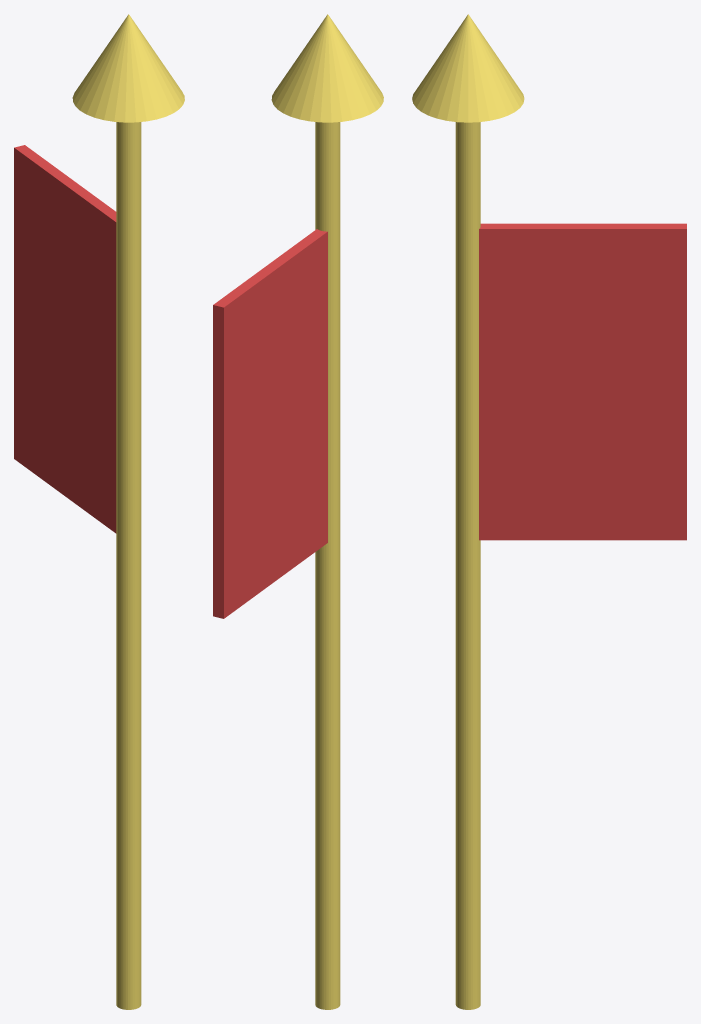
File: roman_banner.glb
3 views of the same model, side by side, from view 1: azimuth 30°, elevation 25°; view 2: azimuth 150°, elevation 25°; view 3: azimuth 270°, elevation 25° (orthographic).
Parts seen in each view (by area): view 1: RomanBanner; view 2: RomanBanner; view 3: RomanBanner.
Boxes of the visible parts, x1=… form: RomanBanner: x1=14, y1=14, x2=184, y2=1009; RomanBanner: x1=213, y1=14, x2=383, y2=1009; RomanBanner: x1=412, y1=14, x2=686, y2=1009.
Bounding box in the file's own units: 0.36 × 3.5 × 0.88.
